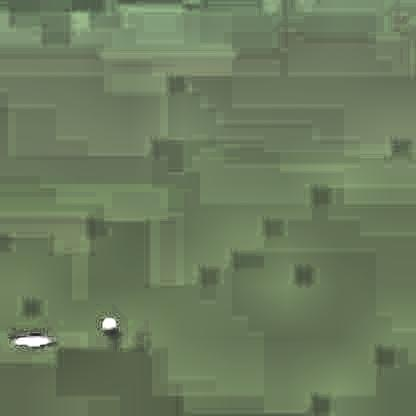golfball: (100, 315, 114, 331)
